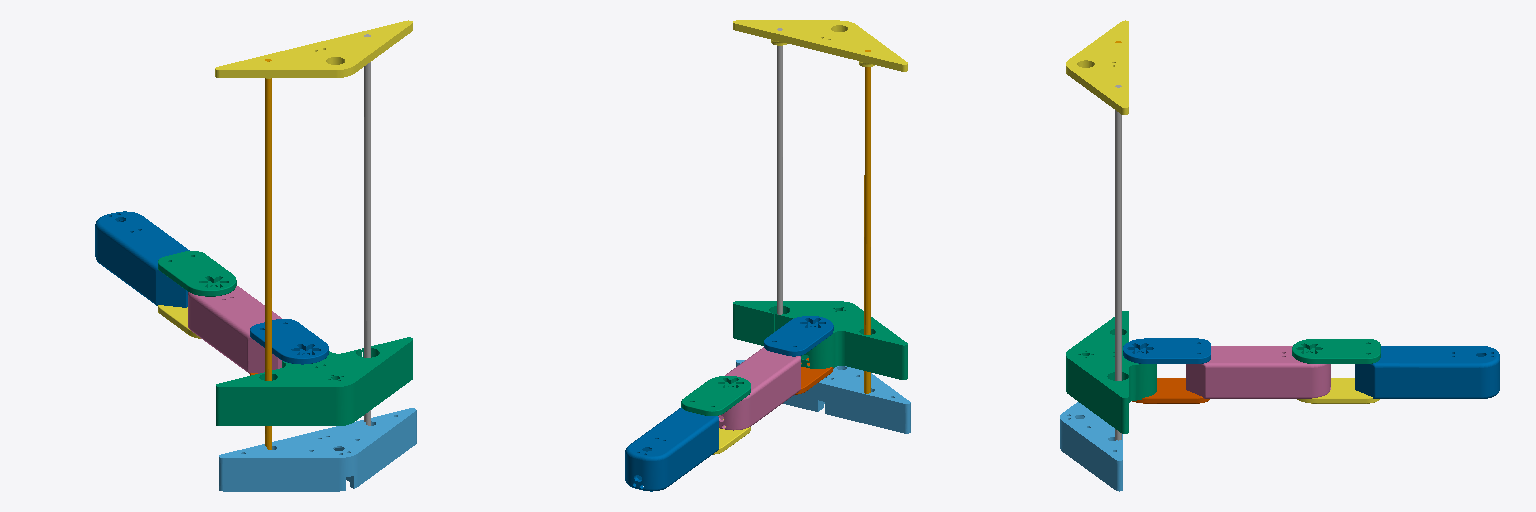
The robot description file, URDF, robot "visual":
<?xml version="1.0"?>

<robot name="visual">
  <link name="base_link">
 	<origin xyz="100 0 0 " rpy=" 0 0 0"/>
    <visual>
      <geometry>
         <cylinder length="0.01" radius="0.01"/>
      </geometry>
      <material name="yellow">
         <color rgba="1 1 0 1"/>
      </material>
    </visual>
  </link>

  <joint name="BaseToBottom" type="fixed">
    <origin xyz="0 0 0" rpy=" 1.57 0 1.57"/>
    <parent link="base_link"/>
    <child link="bottom"/>
    <limit effort="1.0" lower="0" upper="6" velocity="1.0"/>
    <axis xyz = "0 1 0"/>
  </joint>

  <link name="bottom">
 	<origin xyz="0 0 0 " rpy=" 0 0 0"/>
    <visual>
      <geometry>
        <mesh filename="package://robotarm/ScaraArm/Bottom.stl" scale="0.01 0.01 0.01"/>
      </geometry>
      <material name="blue"/>
    </visual>
  </link>

  <joint name="BottomToZ-Axis" type="prismatic">
    <origin xyz="0 1 0" rpy=" 0 1.57 0"/>
    <parent link="bottom"/>
    <child link="Z-Axis"/>
    <limit effort="1.0" lower="0" upper="6" velocity="1.0"/>
    <axis xyz = "0 1 0"/>
  </joint>

  <link name="Z-Axis">
    <origin xyz="0 0 0 " rpy=" 0 0 0"/>
    <visual>
      <geometry>
        <mesh filename="package://robotarm/ScaraArm/Z-Axis.stl" scale="0.01 0.01 0.01"/>
      </geometry>
      <material name="blue"/>
    </visual>
  </link>

  <joint name="BottomTop" type="fixed">
    <origin xyz="0 5.1 0" rpy=" 0 -1.57 3.14"/>
    <parent link="bottom"/>
    <child link="Top"/>
    <limit effort="1.0" lower="0" upper="6" velocity="1.0"/>
    <axis xyz = "0 0 1"/>
  </joint>

  <link name="Top">
    <origin xyz="0 0 0 " rpy=" 0 0 0"/>
    <visual>
      <geometry>
        <mesh filename="package://robotarm/ScaraArm/Top.stl" scale="0.01 0.01 0.01"/>
      </geometry>
      <material name="blue"/>
    </visual>
  </link>

  <joint name="Z-Axis-Link1Top" type="revolute">
    <origin xyz="0 0.23 0.64" rpy=" 0 0 0"/>
    <parent link="Z-Axis"/>
    <child link="Link1Top"/>
    <limit effort="1.0" lower="0" upper="6" velocity="1.0"/>
    <axis xyz = "0 1 0"/>
  </joint>

  <link name="Link1Top">
    <origin xyz="0 0 0 " rpy=" 0 0 0"/>
    <visual>
      <geometry>
        <mesh filename="package://robotarm/ScaraArm/Link_Top.stl" scale="0.01 0.01 0.01"/>
      </geometry>
      <material name="blue"/>
    </visual>
  </link>

  <joint name="Link1Top-Link1Bottom" type="fixed">
    <origin xyz="0 -0.46 0" rpy=" 0 0 0"/>
    <parent link="Link1Top"/>
    <child link="Link1Bottom"/>
    <limit effort="1.0" lower="0" upper="6" velocity="1.0"/>
    <axis xyz = "0 1 0"/>
  </joint>

  <link name="Link1Bottom">
    <origin xyz="0 0 0 " rpy=" 0 0 0"/>
    <visual>
      <geometry>
        <mesh filename="package://robotarm/ScaraArm/Link Bottom.stl" scale="0.01 0.01 0.01"/>
      </geometry>
      <material name="blue"/>
    </visual>
  </link>

  <joint name="Link1Top-Link1" type="fixed">
    <origin xyz="0 -0.23 -0.64" rpy=" 0 0 0"/>
    <parent link="Link1Top"/>
    <child link="Link1"/>
    <limit effort="1.0" lower="0" upper="6" velocity="1.0"/>
    <axis xyz = "0 0 1"/>
  </joint>

  <link name="Link1">
    <origin xyz="0 0 0 " rpy=" 0 0 0"/>
    <visual>
      <geometry>
        <mesh filename="package://robotarm/ScaraArm/Link 0.stl" scale="0.01 0.01 0.01"/>
      </geometry>
      <material name="blue"/>
    </visual>
  </link>



  <joint name="Bottom-SmoothRodL" type="fixed">
    <origin xyz="0.37 0.2 0.65" rpy=" 0 0 0"/>
    <parent link="bottom"/>
    <child link="SmoothRodL"/>
    <limit effort="1.0" lower="0" upper="6" velocity="1.0"/>
    <axis xyz = "0 0 1"/>
  </joint>

  <link name="SmoothRodL">
    <origin xyz="0 0 0 " rpy=" 0 0 0"/>
    <visual>
      <geometry>
        <mesh filename="package://robotarm/ScaraArm/SmoothRods.stl" scale="0.01 0.01 0.01"/>
      </geometry>
      <material name="blue"/>
    </visual>
  </link>

  <joint name="Bottom-SmoothRodR" type="fixed">
    <origin xyz="0.37 0.2 -0.65" rpy=" 0 0 0"/>
    <parent link="bottom"/>
    <child link="SmoothRodR"/>
    <limit effort="1.0" lower="0" upper="6" velocity="1.0"/>
    <axis xyz = "0 0 1"/>
  </joint>

  <link name="SmoothRodR">
    <origin xyz="0 0 0 " rpy=" 0 0 0"/>
    <visual>
      <geometry>
        <mesh filename="package://robotarm/ScaraArm/SmoothRods.stl" scale="0.01 0.01 0.01"/>
      </geometry>
      <material name="blue"/>
    </visual>
  </link>

  <joint name="Bottom-LeadScrew" type="fixed">
    <origin xyz="-0.04 0 0" rpy=" 0 0 0"/>
    <parent link="bottom"/>
    <child link="LeadScrew"/>
    <limit effort="1.0" lower="0" upper="6" velocity="1.0"/>
    <axis xyz = "0 0 1"/>
  </joint>

  <link name="LeadScrew">
    <origin xyz="0 0 0 " rpy=" 0 0 0"/>
    <visual>
      <geometry>
        <mesh filename="package://robotarm/ScaraArm/Leadscrew.stl" scale="0.01 0.01 0.01"/>
      </geometry>
      <material name="blue"/>
    </visual>
  </link>

  <joint name="Link1-Link2Top" type="revolute">
    <origin xyz="0 0.23 2.74" rpy=" 0 0 0"/>
    <parent link="Link1"/>
    <child link="Link2Top"/>
    <limit effort="1.0" lower="0" upper="6" velocity="1.0"/>
    <axis xyz = "0 1 0"/>
  </joint>

  <link name="Link2Top">
    <origin xyz="0 0 0 " rpy=" 0 0 0"/>
    <visual>
      <geometry>
        <mesh filename="package://robotarm/ScaraArm/Link_Top.stl" scale="0.01 0.01 0.01"/>
      </geometry>
      <material name="blue"/>
    </visual>
  </link>

  <joint name="Link2Top-Link2Bottom" type="fixed">
    <origin xyz="0 -0.46 0" rpy=" 0 0 0"/>
    <parent link="Link2Top"/>
    <child link="Link2Bottom"/>
    <limit effort="1.0" lower="0" upper="6" velocity="1.0"/>
    <axis xyz = "0 1 0"/>
  </joint>

  <link name="Link2Bottom">
    <origin xyz="0 0 0 " rpy=" 0 0 0"/>
    <visual>
      <geometry>
        <mesh filename="package://robotarm/ScaraArm/Link Bottom.stl" scale="0.01 0.01 0.01"/>
      </geometry>
      <material name="blue"/>
    </visual>
  </link>

  <joint name="Link2Top-Link2" type="fixed">
    <origin xyz="0 -0.23 -0.64" rpy=" 0 0 0"/>
    <parent link="Link2Top"/>
    <child link="Link2"/>
    <limit effort="1.0" lower="0" upper="6" velocity="1.0"/>
    <axis xyz = "0 0 1"/>
  </joint>


  <link name="Link2">
    <origin xyz="0 0 0  " rpy=" 0 0 0"/>
    <visual>
      <geometry>
        <mesh filename="package://robotarm/ScaraArm/Link 0.stl" scale="0.01 0.01 0.01"/>
      </geometry>
      <material name="blue"/>
    </visual>
  </link>

   
</robot>

--- What the picture shows (computed from the rendered views, not written in the file) ---
Views: 3 orthographic renders of the robot side by side, from view 1: azimuth 30°, elevation 25°; view 2: azimuth 150°, elevation 25°; view 3: azimuth 270°, elevation 25°.
Robot: visual — 13 links, 12 joints (2 revolute, 1 prismatic, 9 fixed); root link base_link; default pose: every joint at zero.
Links seen in each view (by area): view 1: Z-Axis, bottom, Link2, Top, Link1, Link2Top, SmoothRodR, Link1Top, SmoothRodL, Link2Bottom; view 2: Z-Axis, Link2, bottom, Top, Link1, SmoothRodR, Link1Top, Link2Top, SmoothRodL; view 3: Link2, Link1, Z-Axis, Top, bottom, Link1Top, Link2Top, SmoothRodL, Link1Bottom, Link2Bottom.
Boxes of the visible links, x1,y1,x2,y2 form: Z-Axis: (216, 337, 412, 425); bottom: (219, 408, 416, 491); Link2: (95, 211, 189, 307); Top: (215, 20, 412, 78); Link1: (188, 286, 281, 373); Link2Top: (158, 251, 236, 296); SmoothRodR: (265, 59, 271, 449); Link1Top: (250, 319, 328, 364); SmoothRodL: (364, 34, 370, 425); Link2Bottom: (158, 305, 200, 338); Z-Axis: (733, 301, 907, 379); Link2: (625, 407, 718, 491); bottom: (736, 360, 910, 433); Top: (733, 20, 907, 71); Link1: (718, 347, 800, 430); SmoothRodR: (864, 50, 870, 393); Link1Top: (764, 316, 833, 356); Link2Top: (681, 376, 750, 415); SmoothRodL: (777, 28, 782, 314); Link2: (1355, 346, 1499, 398); Link1: (1186, 346, 1330, 398); Z-Axis: (1066, 311, 1156, 433); Top: (1066, 20, 1128, 114); bottom: (1060, 402, 1122, 491); Link1Top: (1123, 338, 1210, 363); Link2Top: (1292, 339, 1380, 363); SmoothRodL: (1115, 85, 1121, 440); Link1Bottom: (1132, 378, 1209, 403); Link2Bottom: (1297, 378, 1379, 403).
Bounding box of the posed robot: 2.58 × 5.46 × 5.25 m (x, y, z).
Meshes: 8 distinct files referenced, 11 mesh visuals loaded (7 binary STL); not drawn: 1 (reference not matched to a file when rendering).